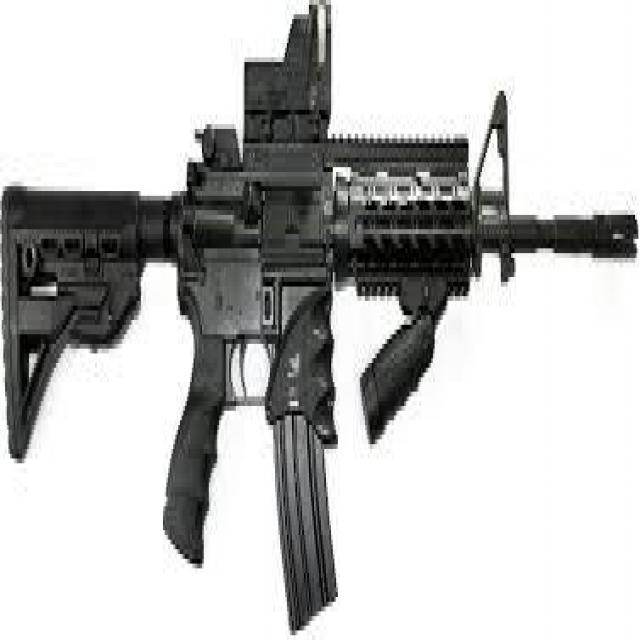rifle: (2, 5, 638, 630)
